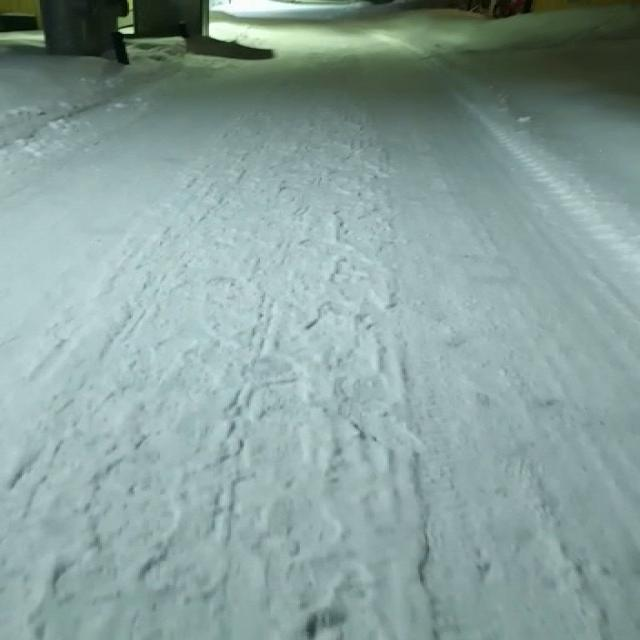path: (0, 3, 640, 640)
